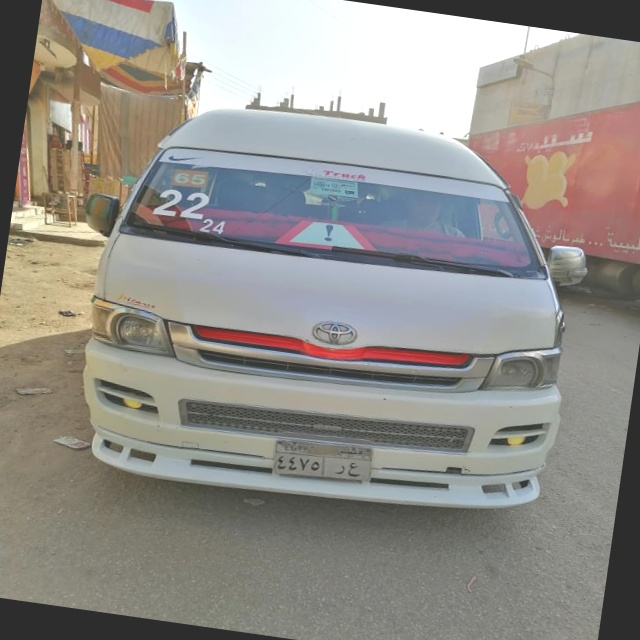License Plate: (269, 433, 376, 488)
